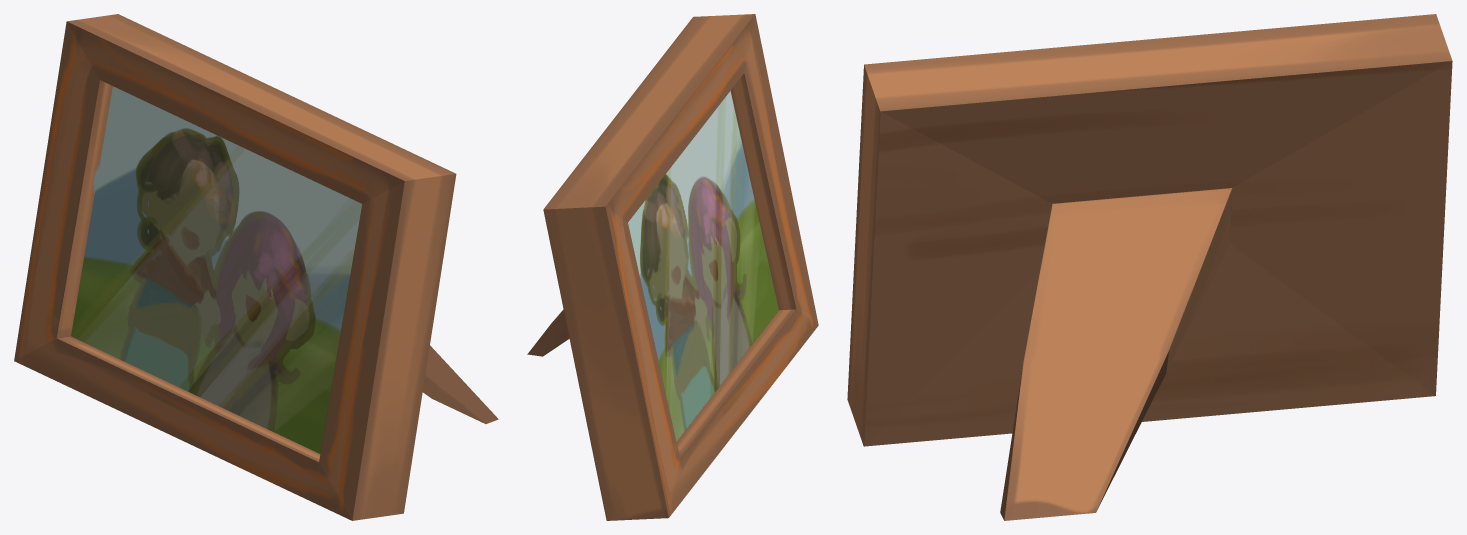
The model's file is PhotoFrame_2.fbx.
3 renders of one model, left to right at view 1: azimuth 30°, elevation 25°; view 2: azimuth 150°, elevation 25°; view 3: azimuth 270°, elevation 25°, orthographic. The views are drawn at different scales.
Parts seen in each view (by area): view 1: Photo_frame_2; view 2: Photo_frame_2; view 3: Photo_frame_2.
Part boxes in pixels (bbox=[...]): Photo_frame_2: bbox=[14, 14, 498, 520]; Photo_frame_2: bbox=[527, 14, 818, 520]; Photo_frame_2: bbox=[847, 14, 1452, 520].
Size of the model in its own units: 29.52 by 30.75 by 44.08.
1 material, 1 textured.
